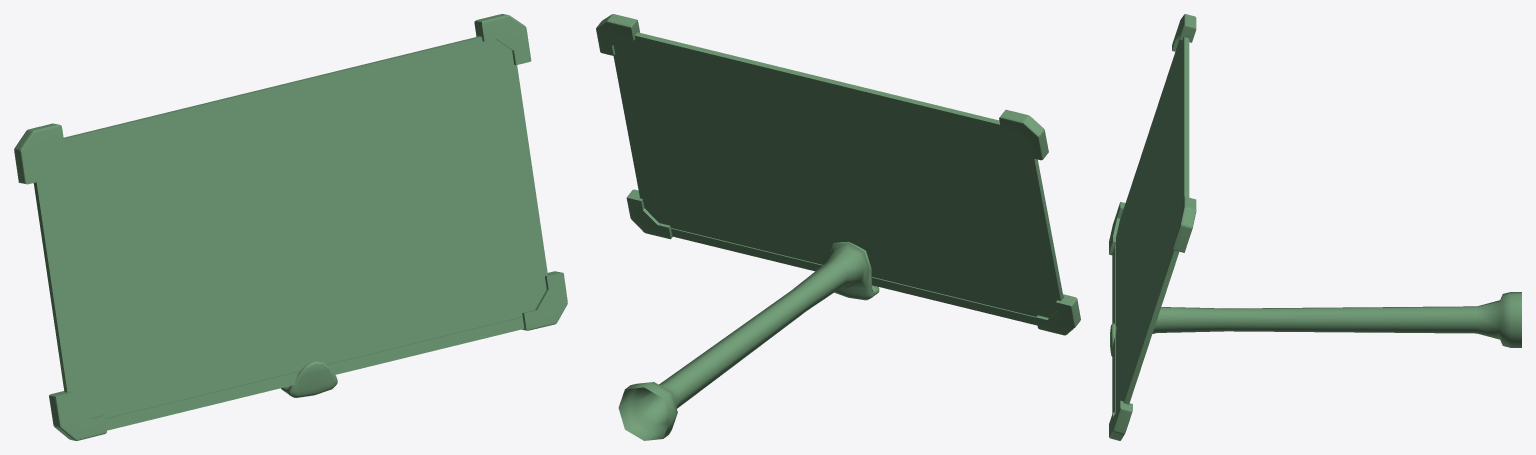
Rendered from screen.fbx.
The picture shows the model from 3 angles, left to right: view 1: azimuth 30°, elevation 25°; view 2: azimuth 150°, elevation 25°; view 3: azimuth 270°, elevation 25°; orthographic projection. The views are drawn at different scales.
Parts seen in each view (by area): view 1: screen; view 2: screen; view 3: screen.
Boxes of the visible parts, x1=… form: screen: x1=14, y1=14, x2=567, y2=440; screen: x1=596, y1=14, x2=1080, y2=440; screen: x1=1109, y1=14, x2=1521, y2=440.
Size of the model in its own units: 0.8407 by 0.459 by 0.7087.
